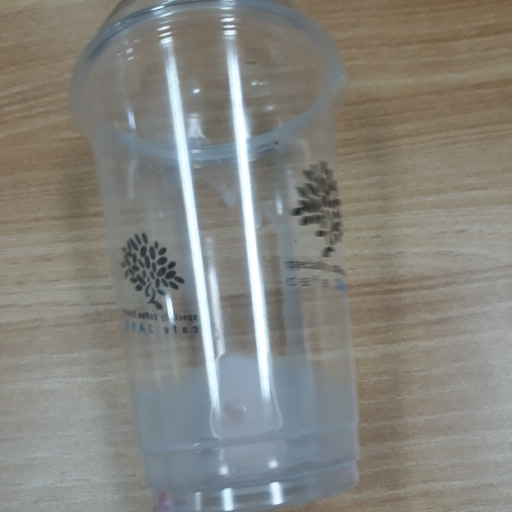Plastic_2: (66, 2, 365, 512)
